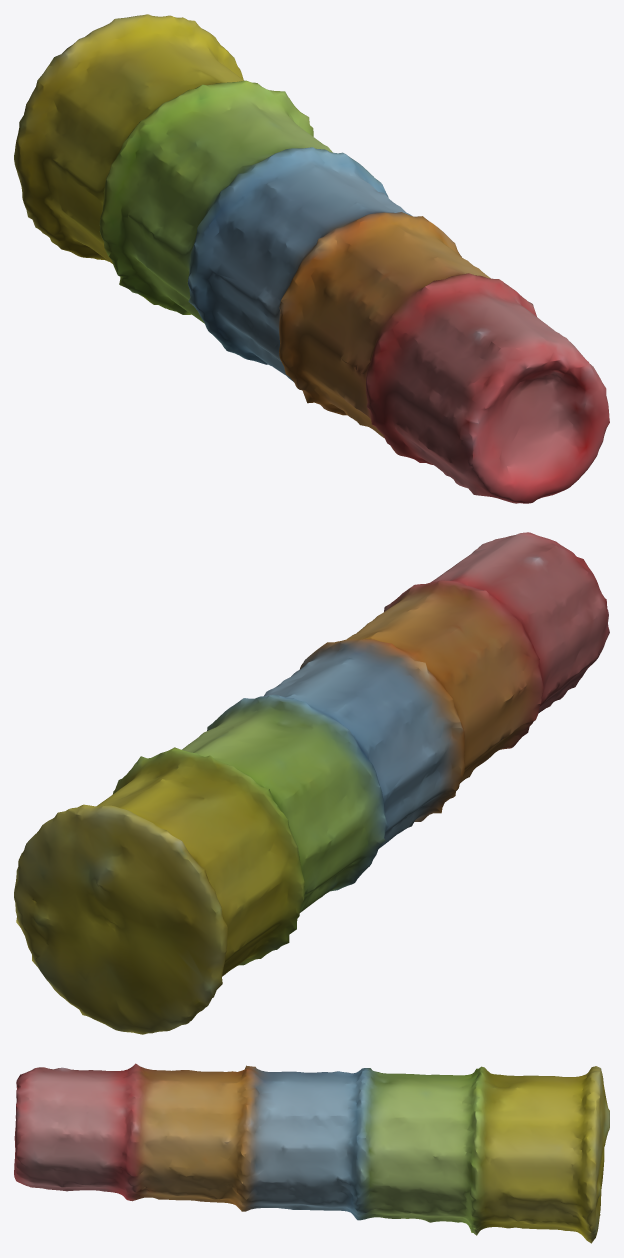
Rendered from stucking_cups.glb.
The picture shows the model from 3 angles, top to bottom: view 1: azimuth 30°, elevation 25°; view 2: azimuth 150°, elevation 25°; view 3: azimuth 270°, elevation 25°; orthographic projection. The views are drawn at different scales.
Bounding box in the file's own units: 0.2927 × 0.2925 × 0.9948.
